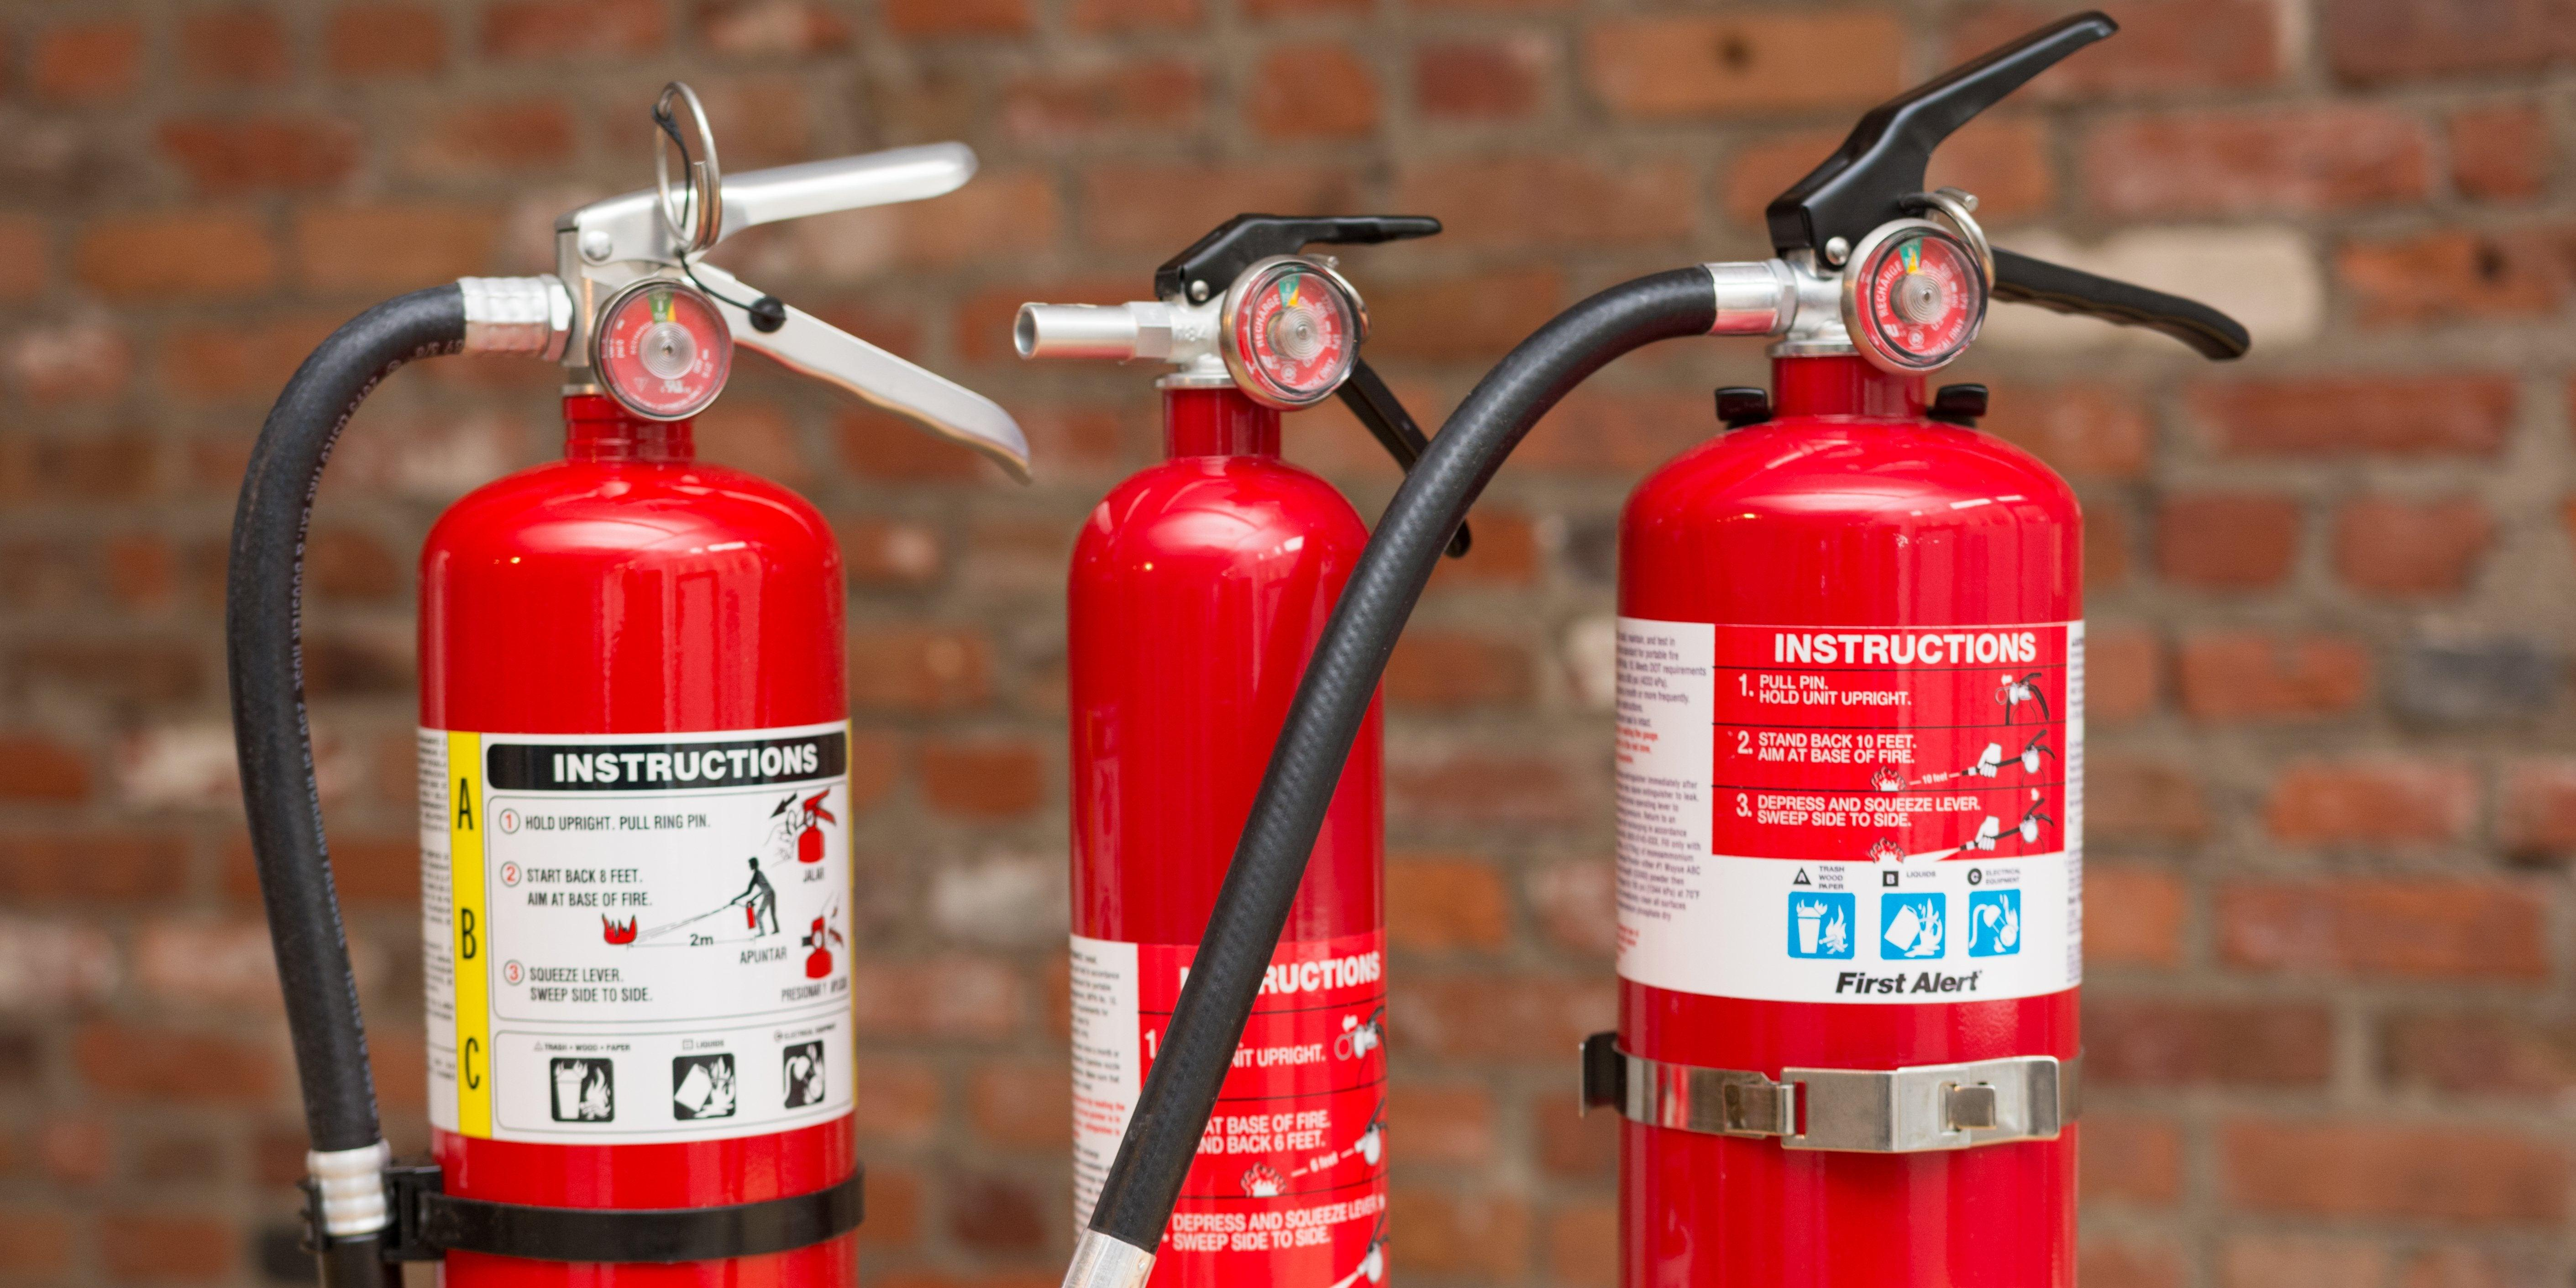Fire Extinguisher: (1520, 13, 2287, 1288), (174, 77, 950, 1288), (991, 123, 1447, 1283)
